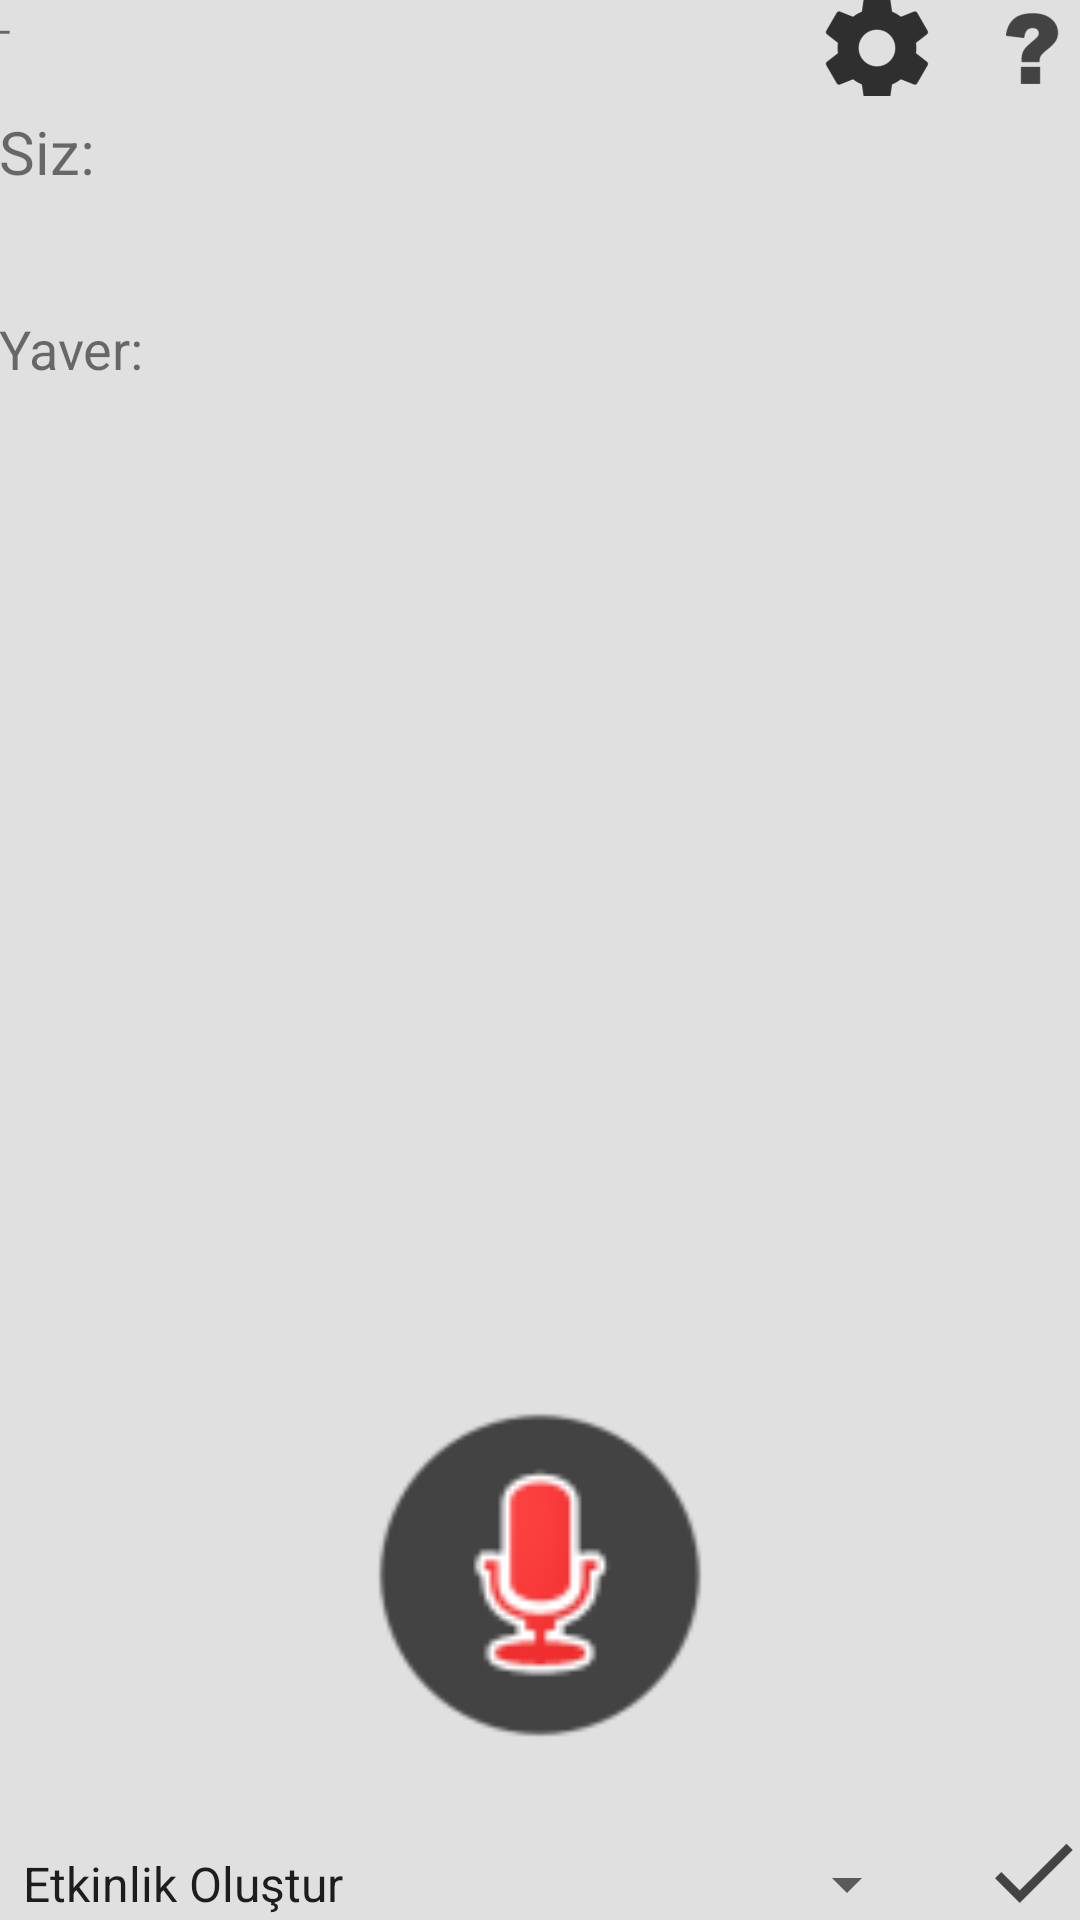

Icon click points for this 1080px×1920px phone screenshot, format (x,y):
gear: (877,48)
proceed: (1034,1873)
